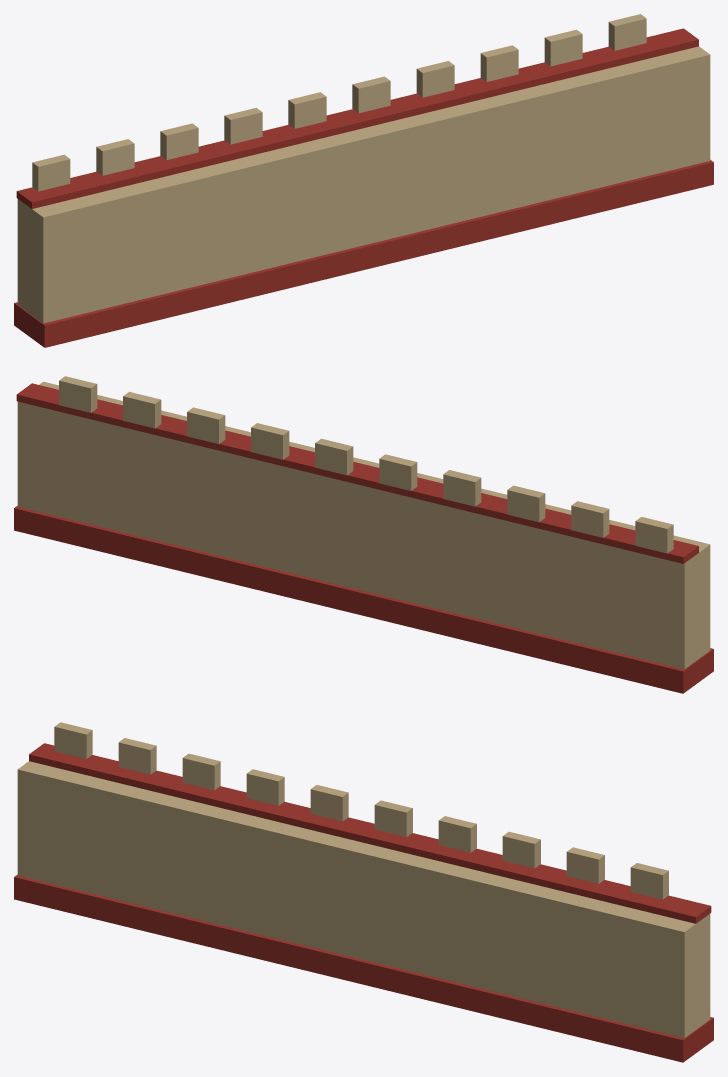
The model's file is minotaur_wall.glb.
3 views of the same model, one above another, from view 1: azimuth 30°, elevation 25°; view 2: azimuth 150°, elevation 25°; view 3: azimuth 330°, elevation 25° (orthographic).
Parts seen in each view (by area): view 1: minotaur_wall; view 2: minotaur_wall; view 3: minotaur_wall.
Part boxes in pixels (box(x1,y1,x2,y2)): minotaur_wall: box(14, 14, 713, 347); minotaur_wall: box(14, 376, 713, 693); minotaur_wall: box(14, 722, 713, 1062).
Size of the model in its own units: 6.27 by 1.43 by 0.5.
